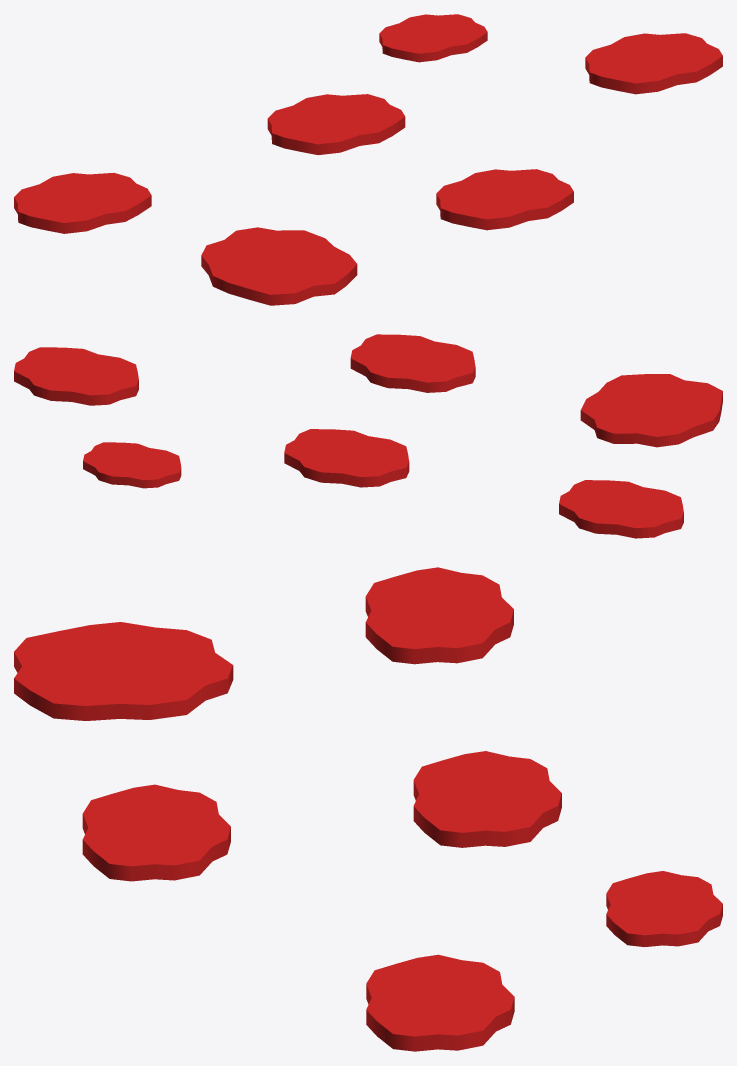
The model's file is chicken.glb.
3 views of the same model, one above another, from view 1: azimuth 30°, elevation 25°; view 2: azimuth 150°, elevation 25°; view 3: azimuth 270°, elevation 25° (orthographic). The views are drawn at different scales.
Parts seen in each view (by area): view 1: Souce2_SouceMat_0.001, Souce2_SouceMat_0.005, Souce2_SouceMat_0.004, Souce2_SouceMat_0.003, Souce2_SouceMat_0, Souce2_SouceMat_0.002; view 2: Souce2_SouceMat_0.001, Souce2_SouceMat_0.004, Souce2_SouceMat_0.005, Souce2_SouceMat_0.003, Souce2_SouceMat_0, Souce2_SouceMat_0.002; view 3: Souce2_SouceMat_0.001, Souce2_SouceMat_0.003, Souce2_SouceMat_0.005, Souce2_SouceMat_0.004, Souce2_SouceMat_0, Souce2_SouceMat_0.002.
Boxes of the visible parts, x1,y1,x2,y2 form: Souce2_SouceMat_0.001: (201,227,357,305); Souce2_SouceMat_0.005: (267,94,405,155); Souce2_SouceMat_0.004: (436,169,573,230); Souce2_SouceMat_0.003: (585,33,722,94); Souce2_SouceMat_0: (14,172,151,233); Souce2_SouceMat_0.002: (379,14,487,62); Souce2_SouceMat_0.001: (580,374,722,447); Souce2_SouceMat_0.004: (350,334,475,392); Souce2_SouceMat_0.005: (284,429,409,487); Souce2_SouceMat_0.003: (14,347,138,405); Souce2_SouceMat_0: (559,480,683,538); Souce2_SouceMat_0.002: (83,442,181,488); Souce2_SouceMat_0.001: (14,622,233,720); Souce2_SouceMat_0.003: (366,954,514,1051); Souce2_SouceMat_0.005: (413,751,561,847); Souce2_SouceMat_0.004: (82,784,230,881); Souce2_SouceMat_0: (365,567,513,664); Souce2_SouceMat_0.002: (606,871,722,947).
Size of the model in its own units: 1.81 by 0.0271 by 1.15.
